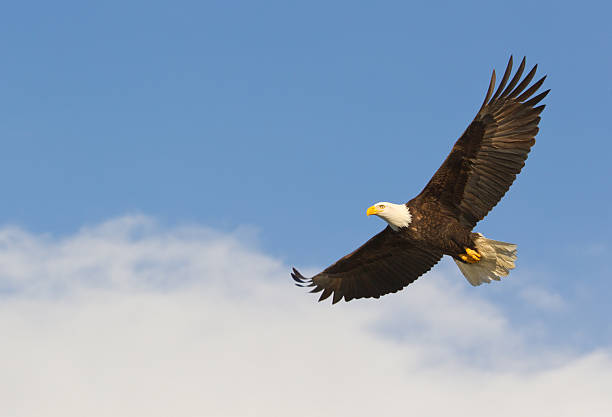Bird: (284, 50, 554, 307)
